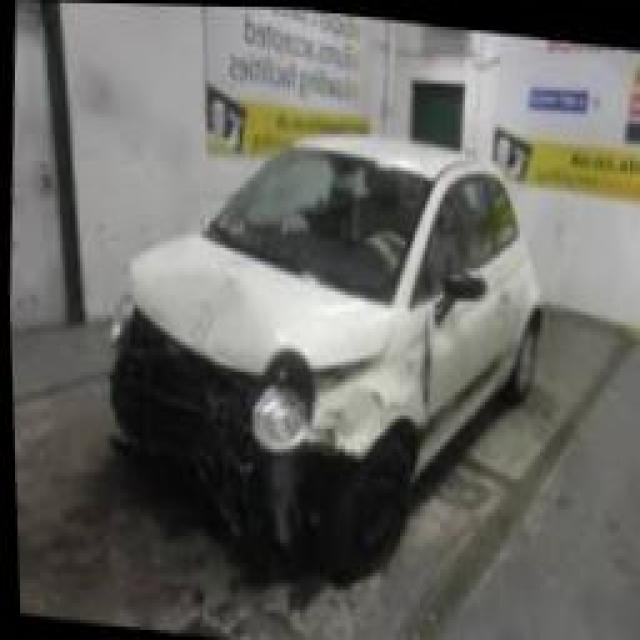Bumper: (105, 318, 298, 556)
Light: (230, 369, 325, 455)
